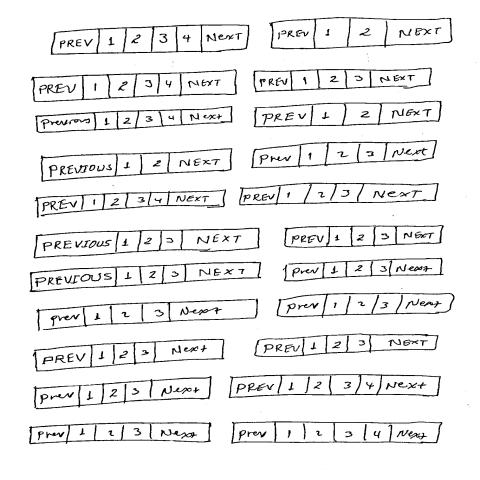Pagination: (33, 227, 261, 260), (37, 299, 260, 332), (32, 69, 238, 104), (29, 262, 261, 293), (34, 338, 226, 374), (40, 149, 234, 184), (49, 25, 251, 57), (34, 377, 212, 412), (269, 18, 454, 51), (36, 189, 228, 219), (36, 106, 234, 135), (251, 141, 439, 170), (227, 375, 442, 400), (230, 421, 445, 446), (252, 101, 443, 129), (254, 67, 435, 94), (276, 292, 456, 319), (238, 183, 440, 207), (28, 421, 213, 446), (253, 334, 439, 358), (284, 258, 444, 282), (283, 226, 444, 249)
